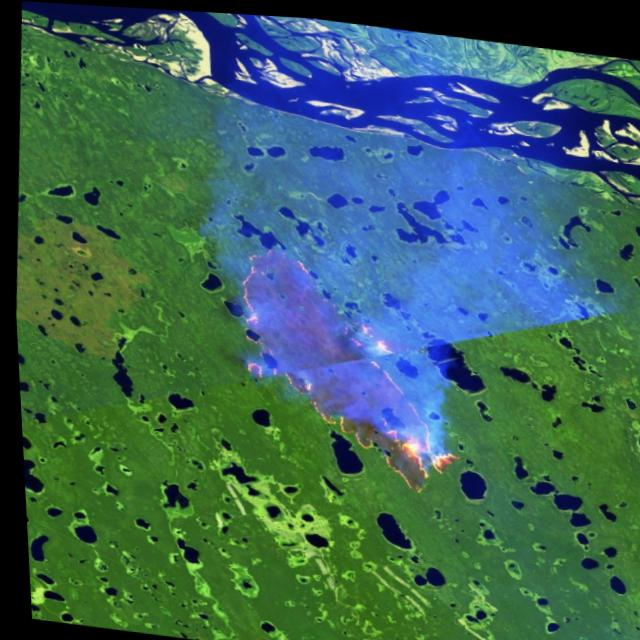fire: (218, 232, 476, 495)
